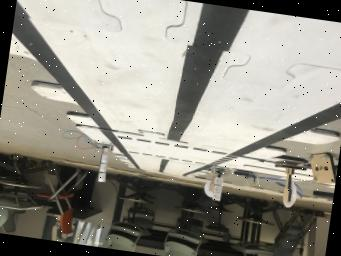street: (16, 0, 340, 176), (16, 0, 340, 176), (16, 0, 340, 176), (16, 0, 340, 176), (16, 0, 340, 176), (16, 0, 340, 176)
traffic_light: (96, 142, 113, 182), (96, 142, 113, 182), (96, 142, 113, 182), (96, 142, 113, 182), (96, 142, 113, 182), (96, 142, 113, 182), (212, 172, 223, 201), (212, 172, 223, 201), (212, 172, 223, 201), (212, 172, 223, 201), (212, 172, 223, 201), (212, 172, 223, 201)
